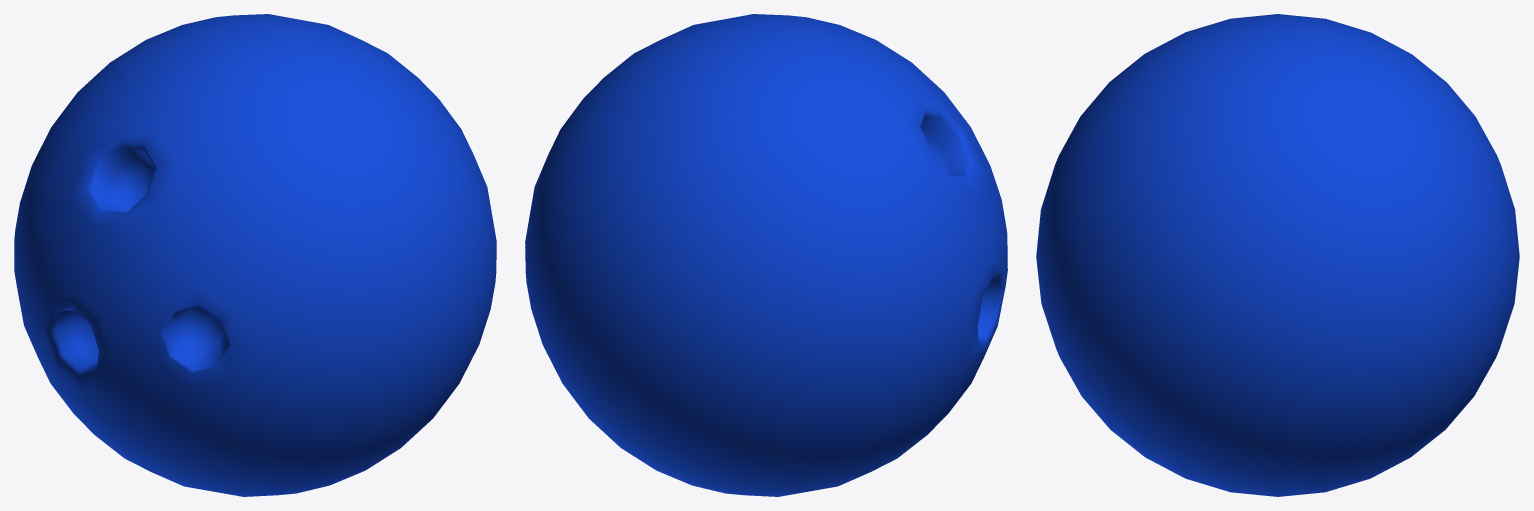
The model's file is bowlingBall15.obj.
3 renders of one model, left to right at view 1: azimuth 30°, elevation 25°; view 2: azimuth 150°, elevation 25°; view 3: azimuth 270°, elevation 25°, orthographic.
Parts seen in each view (by area): view 1: bowlingBall15; view 2: bowlingBall15; view 3: bowlingBall15.
Part boxes in pixels (left/top/right/bottom): bowlingBall15: left=14, top=14, right=496, bottom=496; bowlingBall15: left=525, top=14, right=1007, bottom=496; bowlingBall15: left=1036, top=14, right=1519, bottom=496.
Bounding box in the file's own units: 0.1725 × 0.1722 × 0.173.
